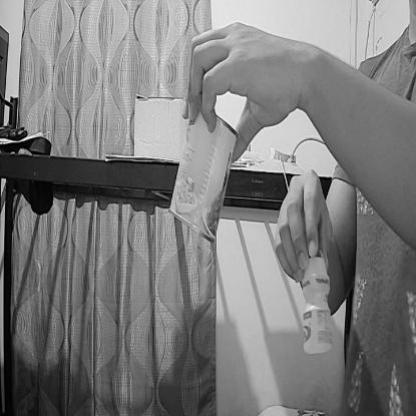Can: (170, 105, 238, 243)
Others: (299, 253, 337, 355)
